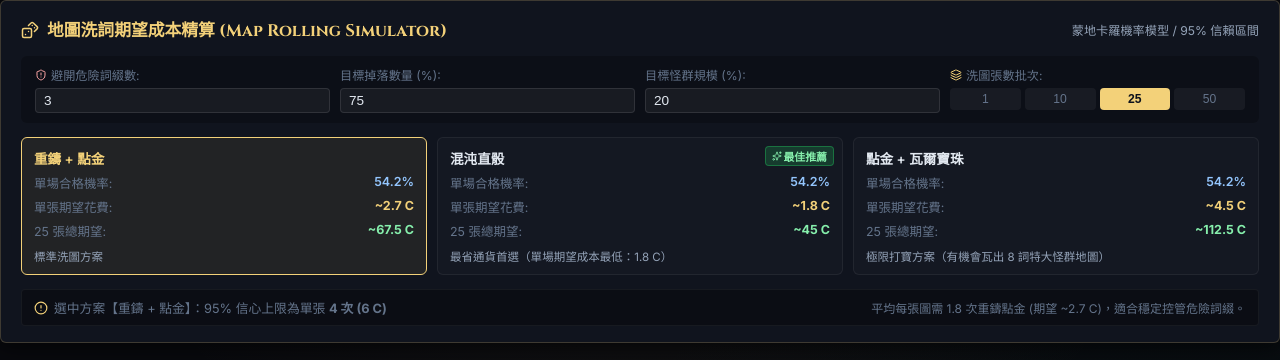
Scenario: MapRollingSimulatorCard › switches active strategy on card click
The width and height of the screenshot is (1280, 360).
Click the text "混沌直骰" at (477, 159), box [450,151,504,167]
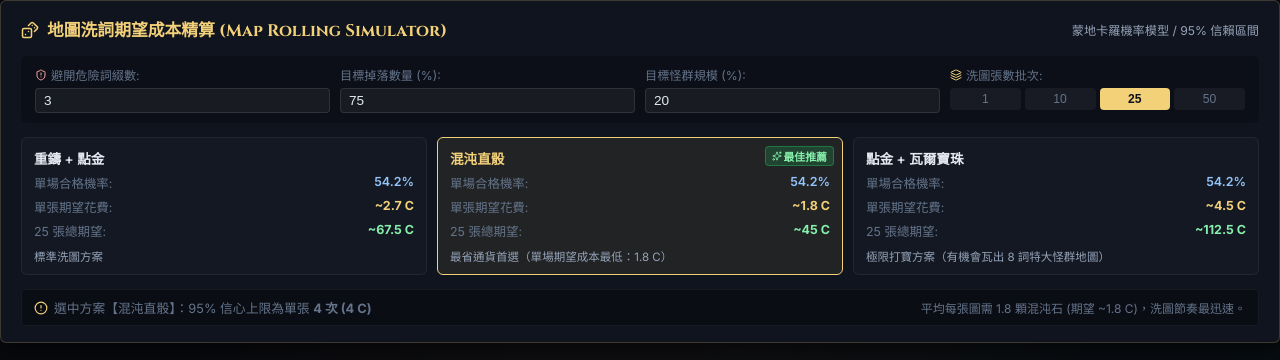
expect the text "選中方案【混沌直骰】：95% 信心上限為單張 4 次 (4 C)" is shown: met, box [54,298,372,317]
